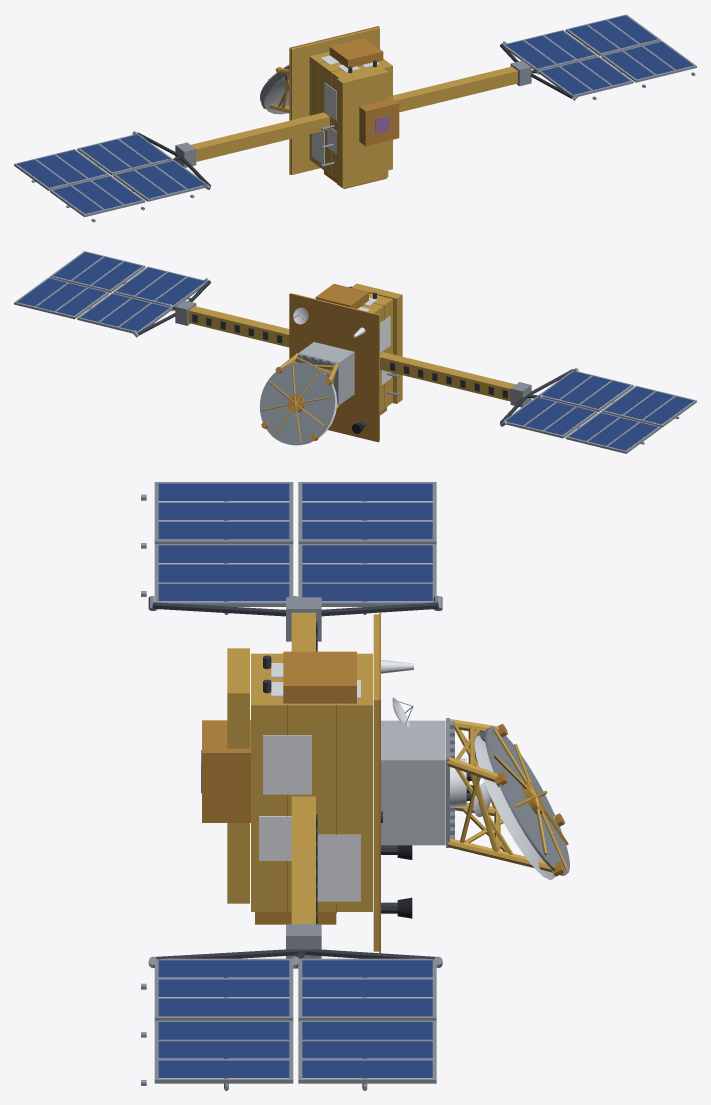
Rendered from gcom-w.glb.
The picture shows the model from 3 angles, top to bottom: view 1: azimuth 30°, elevation 25°; view 2: azimuth 150°, elevation 25°; view 3: azimuth 270°, elevation 25°; orthographic projection. The views are drawn at different scales.
Visible parts, largest first — view 1: foil, solar-panel, body; view 2: foil, solar-panel, body; view 3: solar-panel, foil, body.
Part boxes in pixels (<box>): foil: <box>191,26,517,188</box>; solar-panel: <box>17,15,693,213</box>; body: <box>14,14,696,222</box>; foil: <box>188,283,515,442</box>; solar-panel: <box>17,252,693,450</box>; body: <box>14,251,696,453</box>; solar-panel: <box>158,483,432,1077</box>; foil: <box>202,612,568,953</box>; body: <box>141,482,569,1090</box>.
Size of the model in its own units: 17.36 by 3.44 by 5.27.
